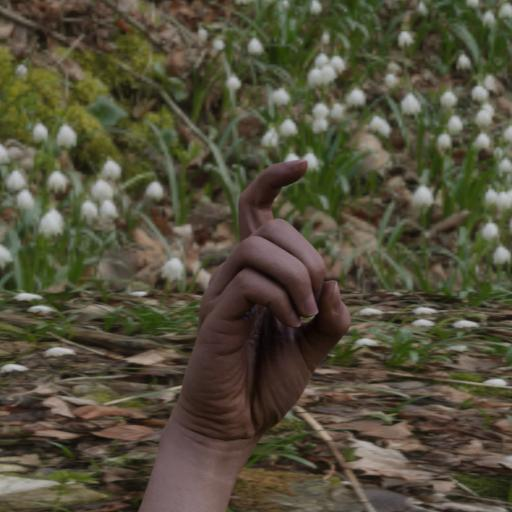X: (170, 147, 359, 487)
